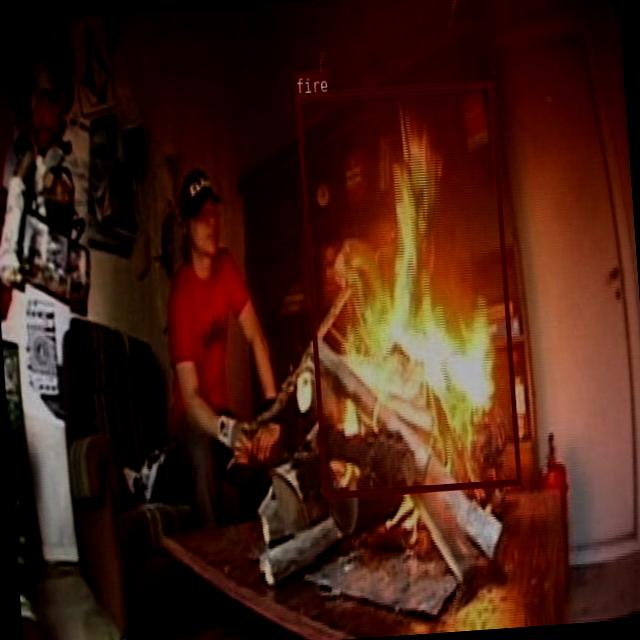fire: (294, 80, 520, 497)
